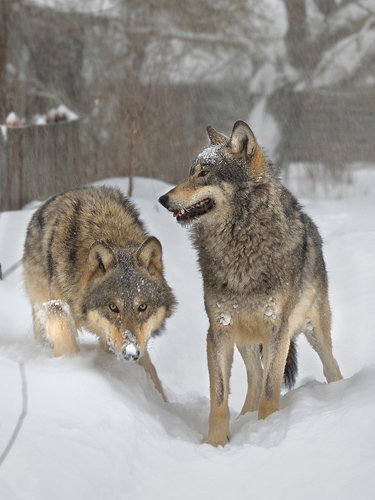wolf: (156, 114, 360, 464), (14, 148, 184, 409)
